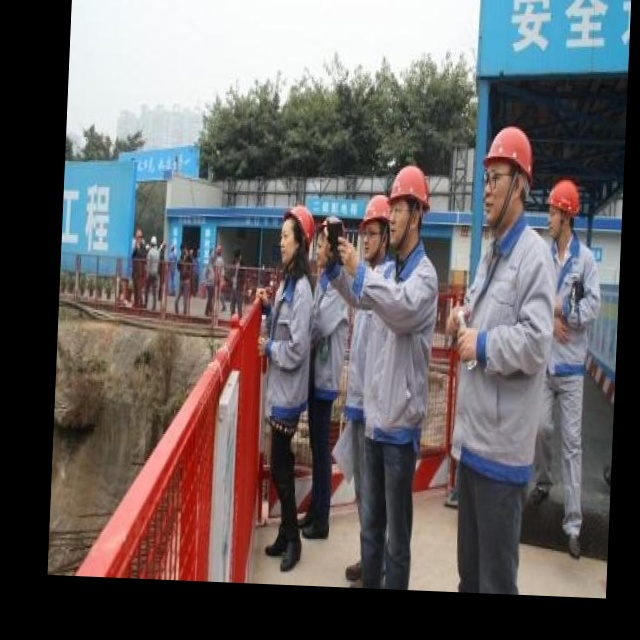Con_Casco: (479, 123, 535, 238), (385, 164, 431, 252)
